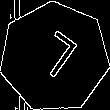L_SW: (28, 28, 81, 87)
